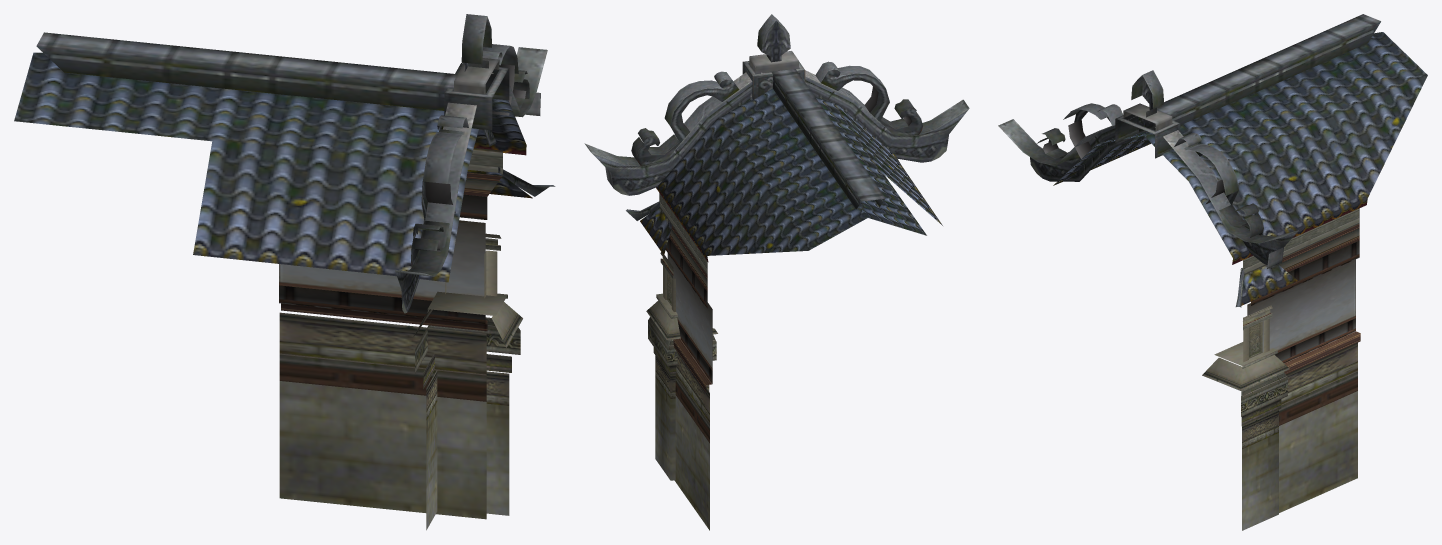
The model's file is S2_Build_XSC056_H2.FBX.
3 views of the same model, side by side, from view 1: azimuth 30°, elevation 25°; view 2: azimuth 150°, elevation 25°; view 3: azimuth 270°, elevation 25° (orthographic). The views are drawn at different scales.
Visible parts, largest first — view 1: S2_Build_XSC056_H2; view 2: S2_Build_XSC056_H2; view 3: S2_Build_XSC056_H2.
Part boxes in pixels (box(x1,y1,x2,y2)): S2_Build_XSC056_H2: box(14, 14, 555, 530); S2_Build_XSC056_H2: box(584, 14, 969, 530); S2_Build_XSC056_H2: box(998, 14, 1427, 530).
Bounding box in the file's own units: 2862 × 3153 × 2886.
